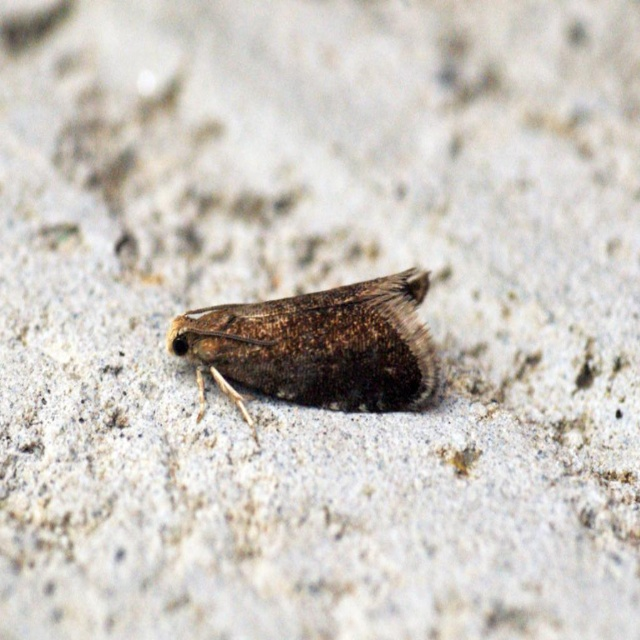Moths and butterflies: (163, 265, 442, 447)
